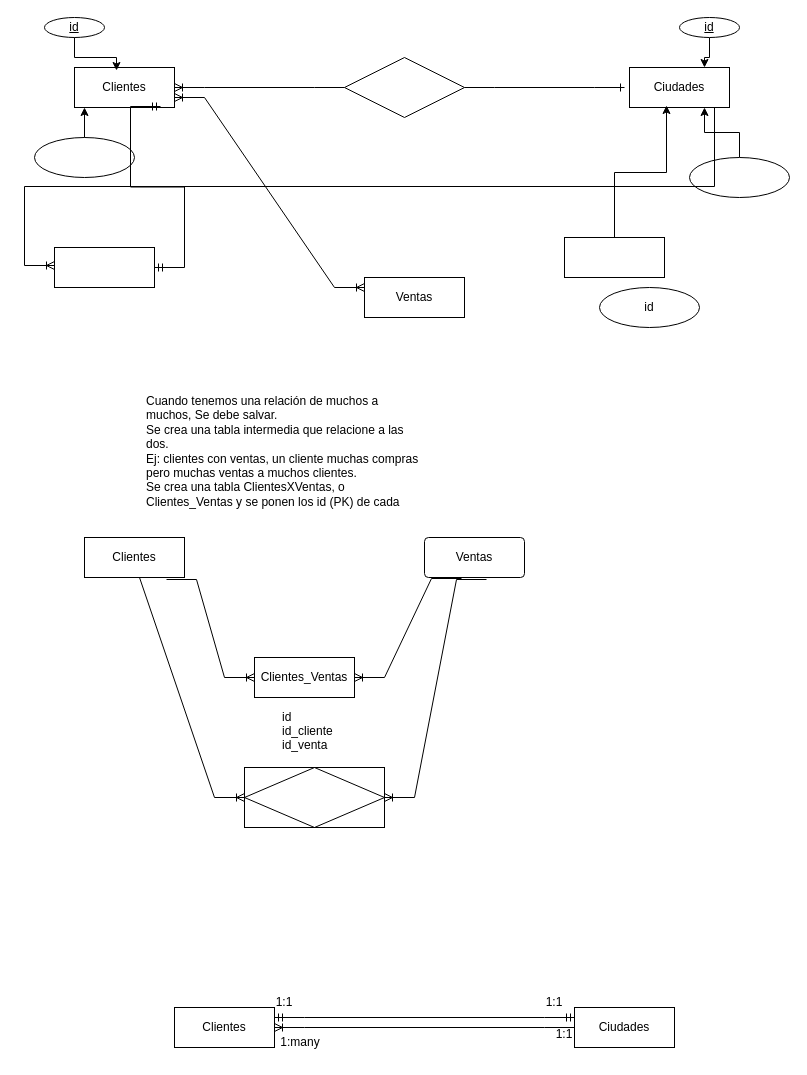
The diagram is 807 pixels wide and 1075 high, and some of its shapes have lost their labels. Each missing label, with the box of its shape:
clientesVentas: (244, 766, 384, 828)
Direcciones: (54, 246, 154, 288)
id_ciudad: (34, 136, 134, 178)
id_provincia: (688, 156, 790, 198)
Pertenece: (344, 56, 464, 118)
Provincias: (564, 236, 664, 278)
